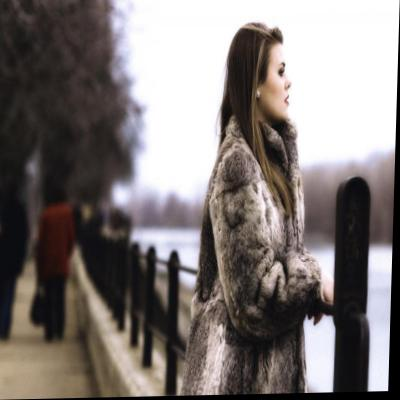sad: (264, 42, 292, 124)
